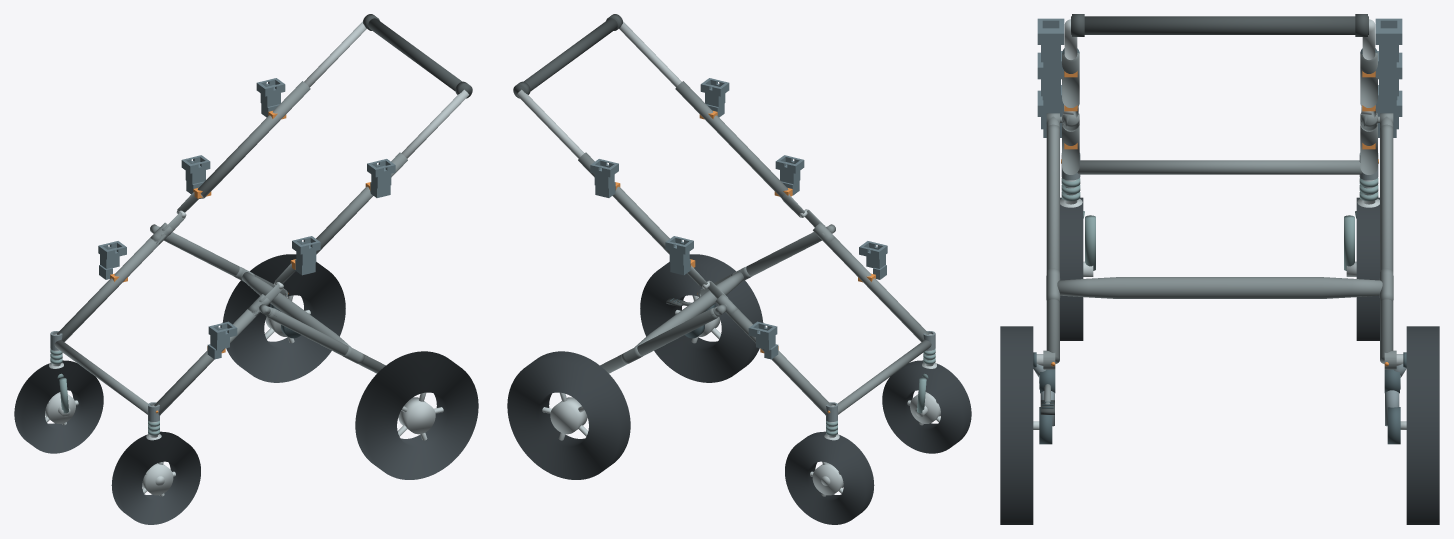
The model's file is w650_state1_wheel_L.glb.
3 views of the same model, side by side, from view 1: azimuth 30°, elevation 25°; view 2: azimuth 150°, elevation 25°; view 3: azimuth 270°, elevation 25° (orthographic). The views are drawn at different scales.
Parts seen in each view (by area): view 1: RL_tire.008, RR_tire.008, FL_tire.008, FR_tire.008, main_upper_1.009, main_lower_1.009, round_handle.008, V46_rear_leg_-1.009, V46_rearbar.009, main_lower_-1.009, front_fixed_round_tube.008, main_upper_-1.009 (+12 smaller); view 2: RR_tire.008, RL_tire.008, FR_tire.008, FL_tire.008, main_upper_-1.009, main_lower_-1.009, round_handle.008, V46_rear_leg_1.009, V46_rearbar.009, main_lower_1.009, front_fixed_round_tube.008, main_upper_1.009 (+12 smaller); view 3: V46_rearbar.009, RL_tire.008, RR_tire.008, round_handle.008, front_fixed_round_tube.008, FL_tire.008, FR_tire.008, V46_rear_leg_1.009, V46_rear_leg_-1.009, Universal_Cabin_Receiver_H_1, Universal_Cabin_Receiver_H_-1, Universal_Cabin_Receiver_M_1 (+8 smaller).
Boxes of the visible parts, x1=… form: RL_tire.008: x1=355, y1=351, x2=478, y2=479; RR_tire.008: x1=222, y1=254, x2=345, y2=382; FL_tire.008: x1=111, y1=431, x2=200, y2=524; FR_tire.008: x1=14, y1=360, x2=103, y2=453; main_upper_1.009: x1=197, y1=81, x2=310, y2=197; main_lower_1.009: x1=57, y1=234, x2=165, y2=341; round_handle.008: x1=368, y1=18, x2=471, y2=96; V46_rear_leg_-1.009: x1=267, y1=308, x2=385, y2=373; V46_rearbar.009: x1=241, y1=272, x2=351, y2=347; main_lower_-1.009: x1=154, y1=309, x2=259, y2=415; front_fixed_round_tube.008: x1=54, y1=340, x2=147, y2=414; main_upper_-1.009: x1=316, y1=152, x2=407, y2=254; RR_tire.008: x1=507, y1=351, x2=630, y2=479; RL_tire.008: x1=640, y1=254, x2=763, y2=382; FR_tire.008: x1=785, y1=431, x2=874, y2=524; FL_tire.008: x1=882, y1=360, x2=971, y2=453; main_upper_-1.009: x1=675, y1=81, x2=788, y2=197; main_lower_-1.009: x1=820, y1=234, x2=928, y2=341; round_handle.008: x1=514, y1=18, x2=617, y2=96; V46_rear_leg_1.009: x1=600, y1=308, x2=718, y2=373; V46_rearbar.009: x1=634, y1=272, x2=744, y2=347; main_lower_1.009: x1=726, y1=309, x2=831, y2=415; front_fixed_round_tube.008: x1=838, y1=340, x2=931, y2=414; main_upper_1.009: x1=578, y1=152, x2=669, y2=254; V46_rearbar.009: x1=1057, y1=277, x2=1382, y2=298; RL_tire.008: x1=1000, y1=326, x2=1033, y2=524; RR_tire.008: x1=1406, y1=326, x2=1439, y2=524; round_handle.008: x1=1071, y1=16, x2=1368, y2=34; front_fixed_round_tube.008: x1=1077, y1=160, x2=1362, y2=174; FL_tire.008: x1=1060, y1=197, x2=1083, y2=340; FR_tire.008: x1=1356, y1=197, x2=1379, y2=340; V46_rear_leg_1.009: x1=1380, y1=124, x2=1393, y2=363; V46_rear_leg_-1.009: x1=1046, y1=124, x2=1059, y2=363; Universal_Cabin_Receiver_H_1: x1=1375, y1=18, x2=1402, y2=77; Universal_Cabin_Receiver_H_-1: x1=1037, y1=18, x2=1064, y2=77; Universal_Cabin_Receiver_M_1: x1=1376, y1=52, x2=1402, y2=111.
Bounding box in the file's own units: 1.14 × 1.1 × 0.796.
